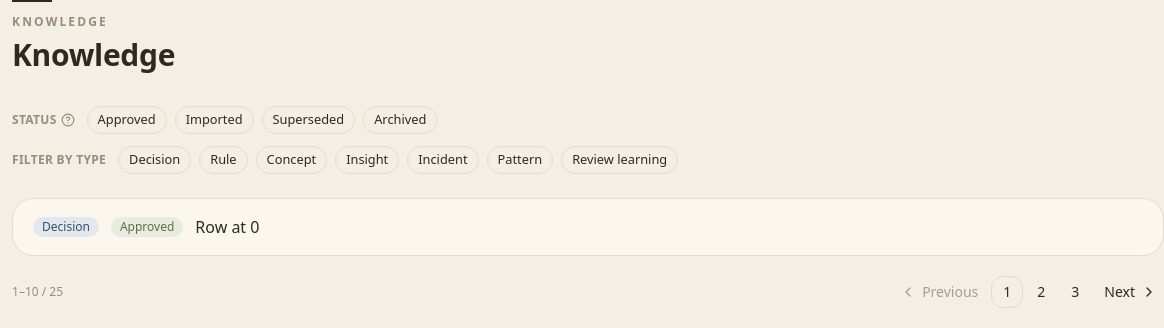
Scenario: KnowledgeList › requests the page's offset and renders that page's rows
Expected: the text "Row at 0" is shown, [195,216,259,238]
Step 1. Click the button "3" → x=1075, y=291, box [1071,282,1079,300]
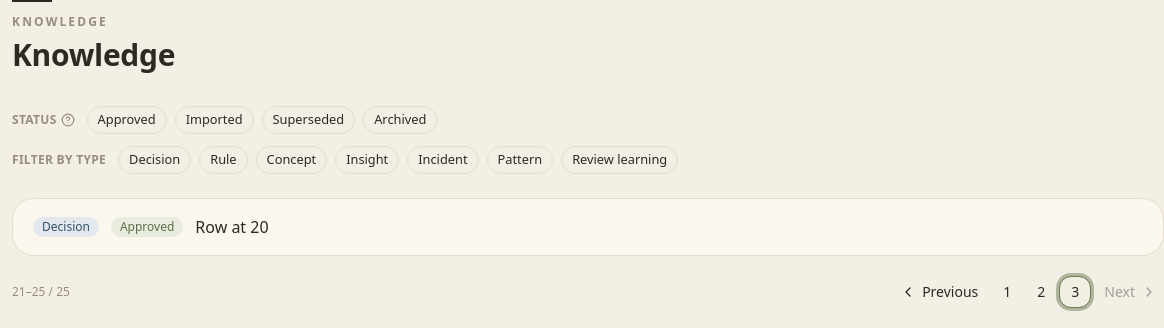
Now the text "Row at 20" is shown, box [195,216,269,238]
